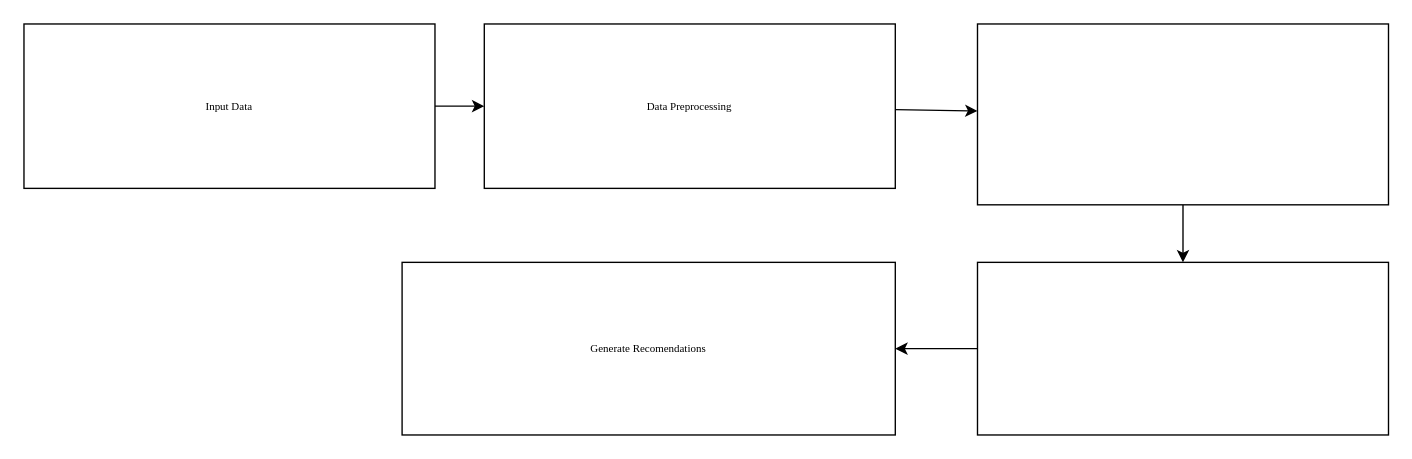
Image size: 1412x459. Some labels were removed from this diagram. The shapes that lost their labels are listed below. From the top down, each one's centre as x and y in pixels, then its label:
the point at 1182,114: Attribute Percentage
the point at 1182,348: Insert Vector Data
